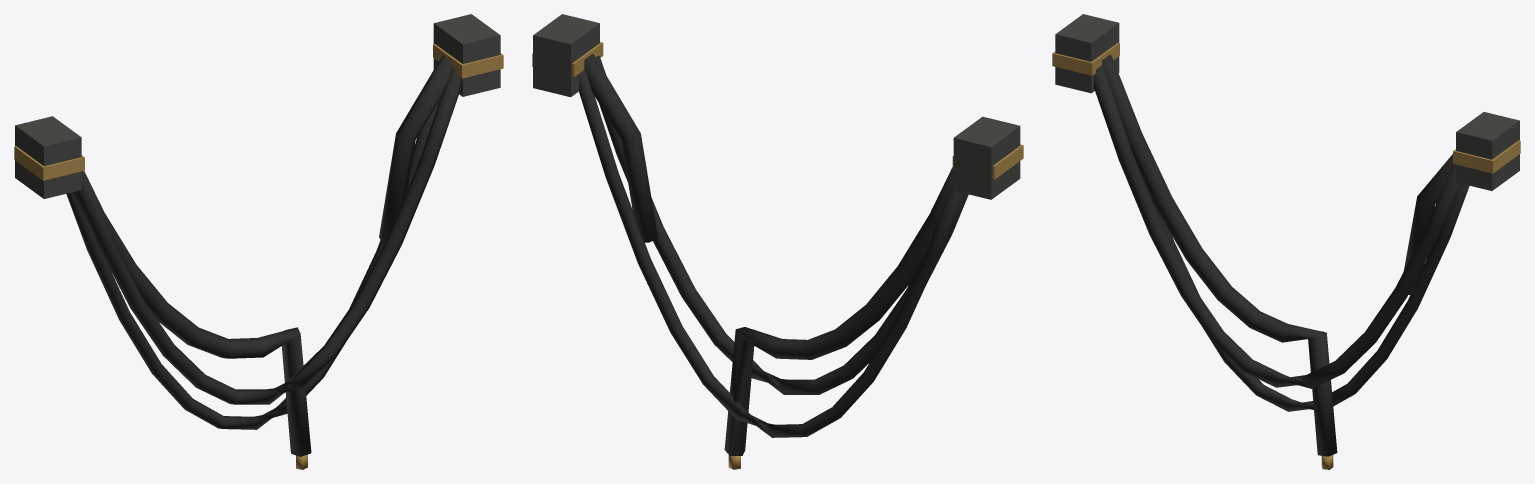
Rendered from cable_hang_cut.glb.
3 renders of one model, left to right at view 1: azimuth 30°, elevation 25°; view 2: azimuth 150°, elevation 25°; view 3: azimuth 330°, elevation 25°, orthographic. The views are drawn at different scales.
Visible parts, largest first — view 1: cable_hang_cut; view 2: cable_hang_cut; view 3: cable_hang_cut.
Part boxes in pixels (box(x1,y1,x2,y2)): cable_hang_cut: box(14, 14, 503, 469); cable_hang_cut: box(532, 14, 1023, 469); cable_hang_cut: box(1052, 14, 1520, 469).
Size of the model in its own units: 2.2 by 1.81 by 0.25.
